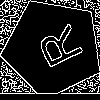R: (28, 22, 85, 75)
